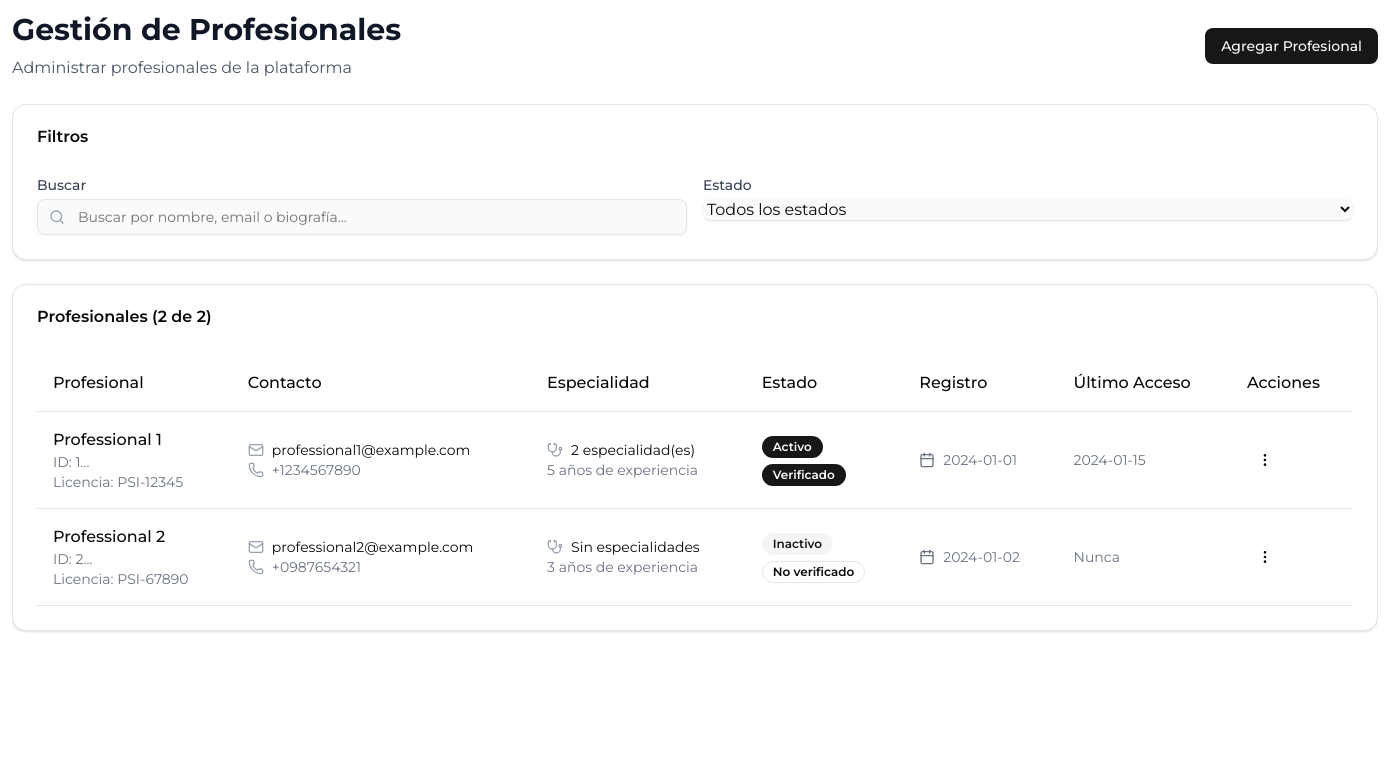
Test: AdminProfessionals › should show empty state when no professionals match filters
This screenshot has width=1390, height=780.
Expected: the text "professional1@example.com" is shown, [272,440,470,460]
In the field with placeholder "Buscar por nombre, email o biografía...": (362, 217) [37,199,687,235], type "nonexistent"
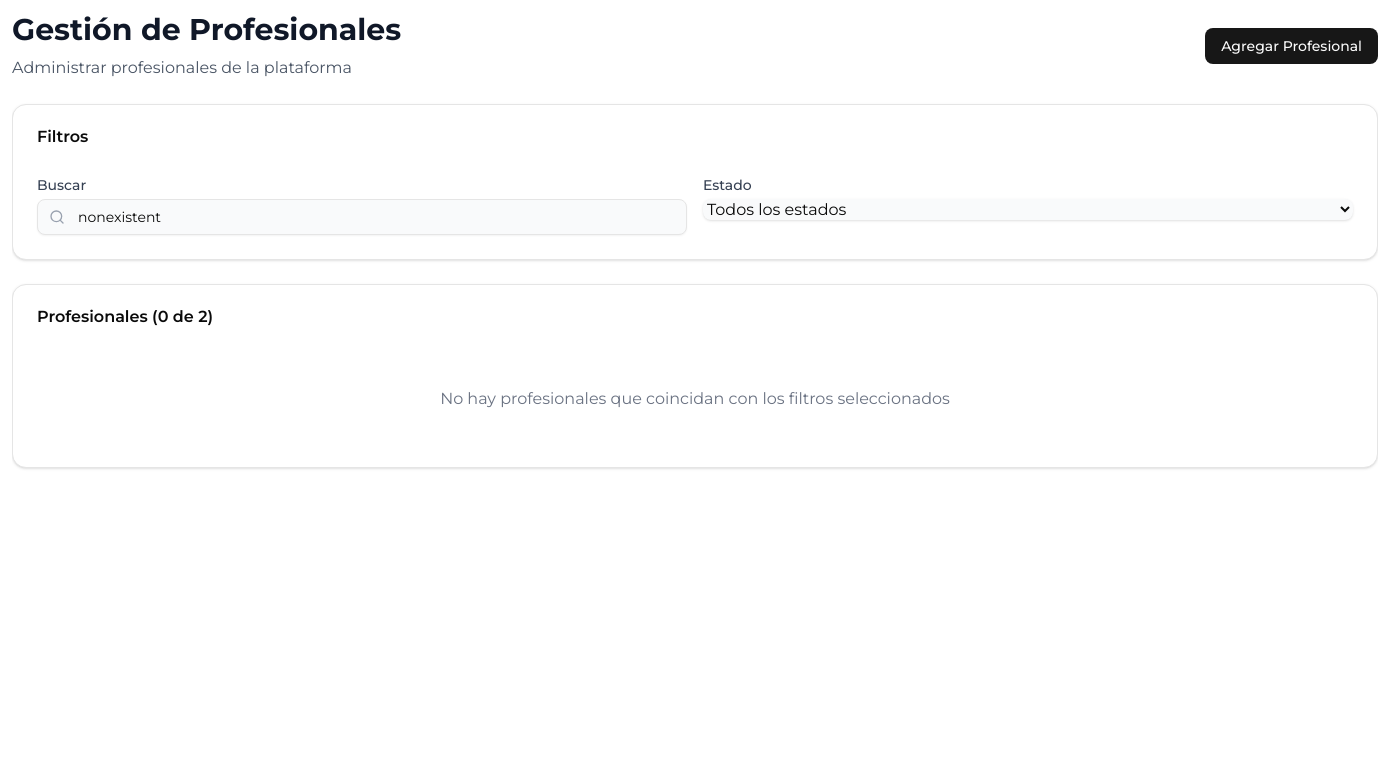
Expected: the text "No hay profesionales que coincidan con los filtros seleccionados" is shown, [440,389,950,408]
